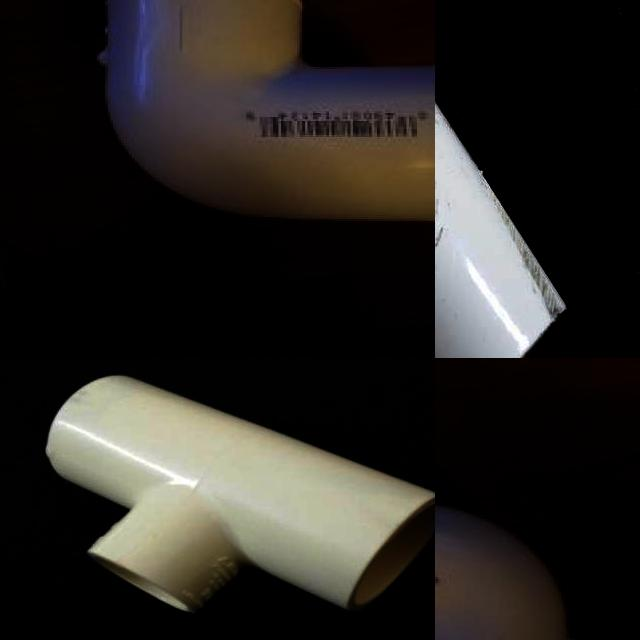Defective: (503, 206, 571, 324)
L Joint: (98, 0, 435, 226), (435, 503, 573, 640)
T Joint: (435, 103, 567, 358)
